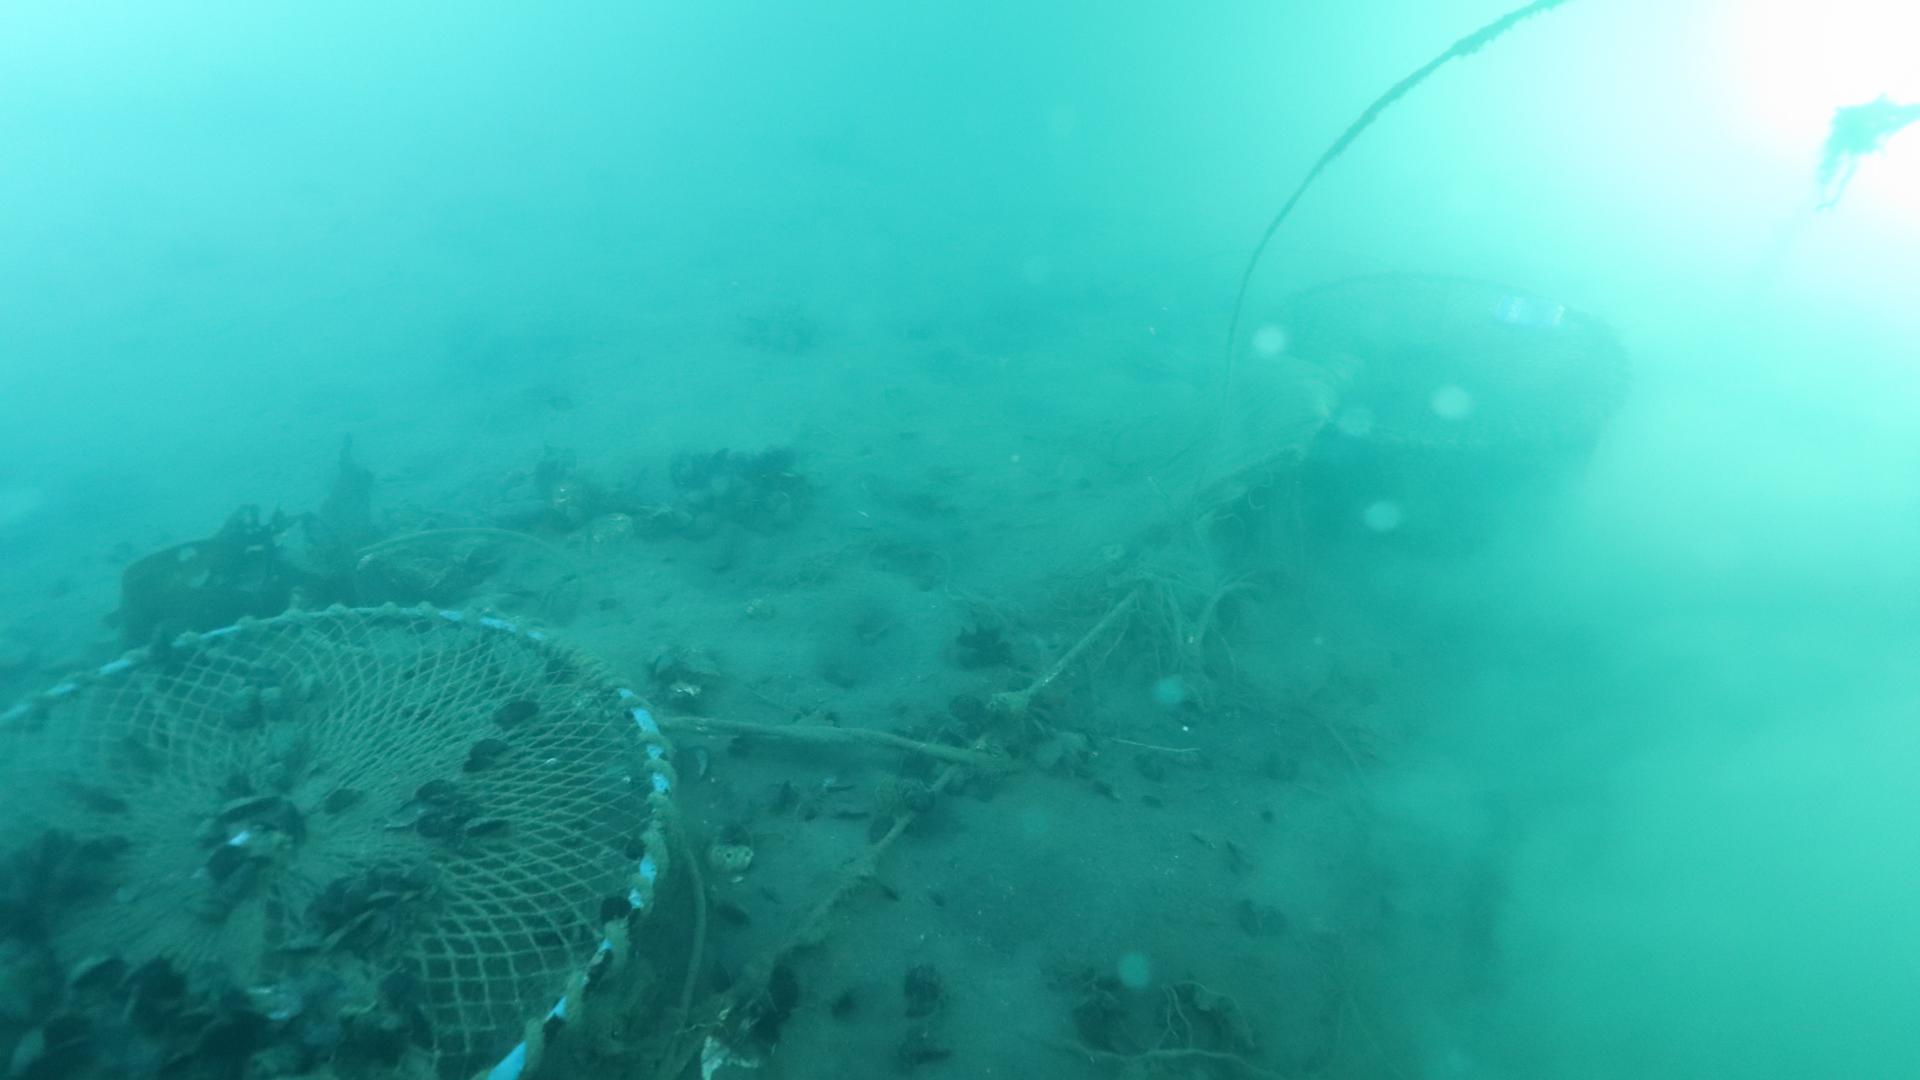circular fish trap: (0, 592, 690, 1080)
